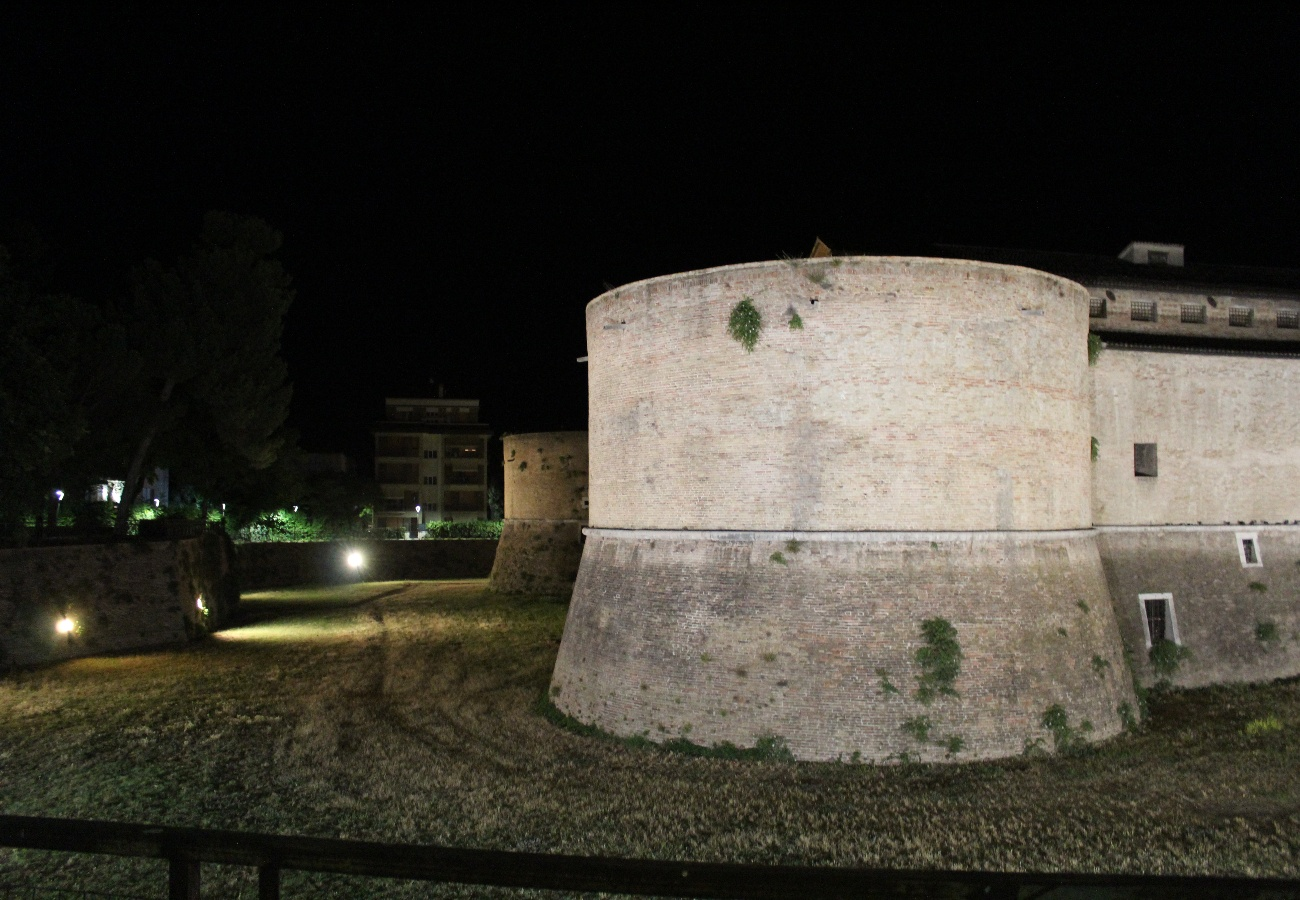Rocca Costanza: (503, 256, 1300, 763)
